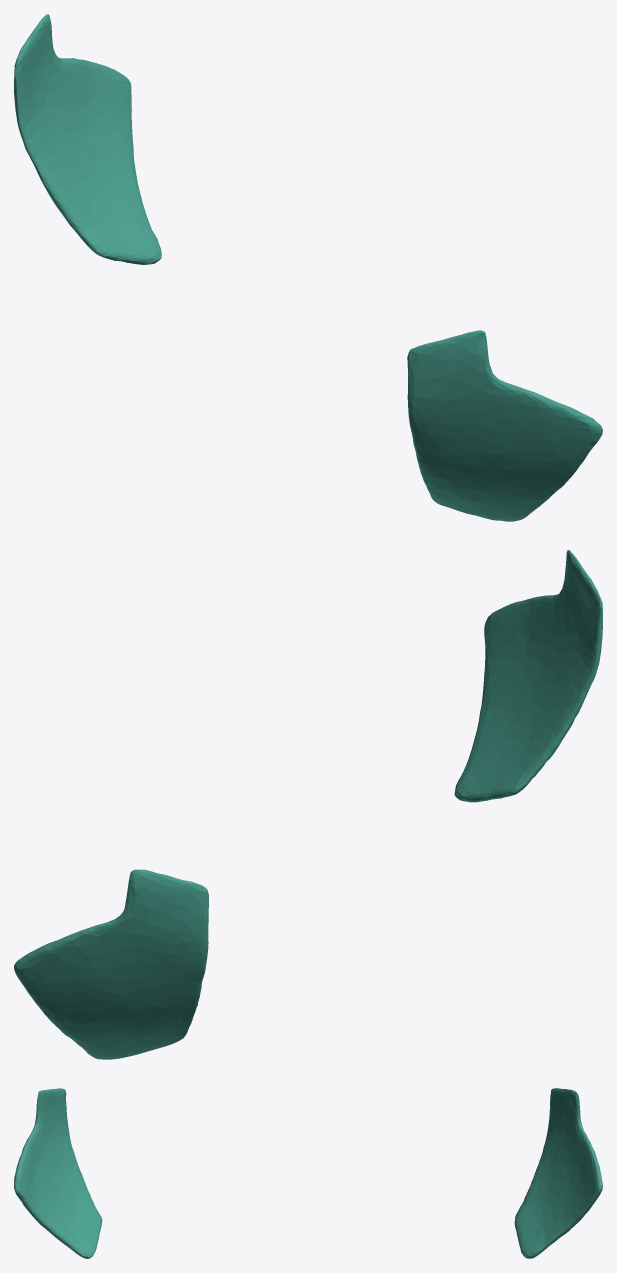
3 views of the same model, one above another, from view 1: azimuth 30°, elevation 25°; view 2: azimuth 150°, elevation 25°; view 3: azimuth 270°, elevation 25° (orthographic). The views are drawn at different scales.
Visible parts, largest first — view 1: 878.obj; view 2: 878.obj; view 3: 878.obj.
Boxes of the visible parts, x1,y1,x2,y2 form: 878.obj: (14,14,602,521); 878.obj: (14,550,602,1059); 878.obj: (14,1088,602,1258).
Size of the model in its own units: 1651 by 2407 by 8763.
